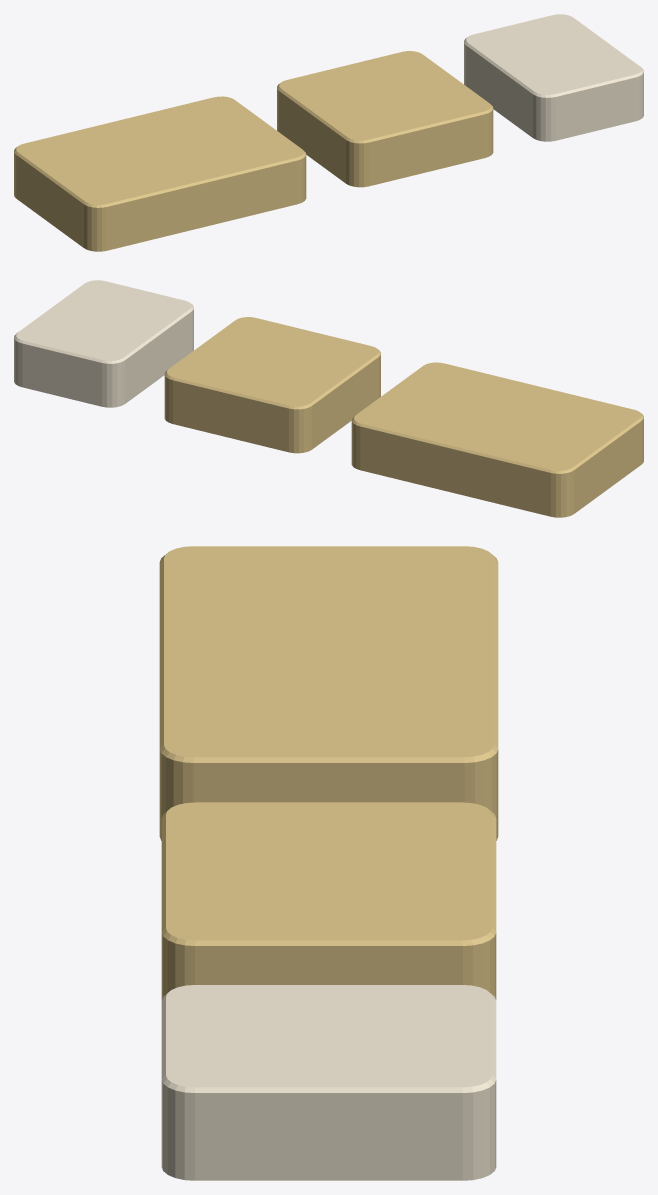
File: mahsulot.glb
3 views of the same model, one above another, from view 1: azimuth 30°, elevation 25°; view 2: azimuth 150°, elevation 25°; view 3: azimuth 270°, elevation 25° (orthographic). The views are drawn at different scales.
Visible parts, largest first — view 1: mahsulot_A, mahsulot_B, mahsulot_V; view 2: mahsulot_A, mahsulot_B, mahsulot_V; view 3: mahsulot_A, mahsulot_V, mahsulot_B.
Boxes of the visible parts, x1,y1,x2,y2 form: mahsulot_A: (14, 96, 306, 251); mahsulot_B: (277, 51, 493, 187); mahsulot_V: (464, 14, 643, 141); mahsulot_A: (351, 362, 643, 517); mahsulot_B: (164, 317, 380, 453); mahsulot_V: (14, 280, 193, 407); mahsulot_A: (159, 546, 498, 840); mahsulot_V: (161, 985, 496, 1180); mahsulot_B: (161, 802, 496, 999).
Bounding box in the file's own units: 0.4465 × 0.035 × 0.1173.
